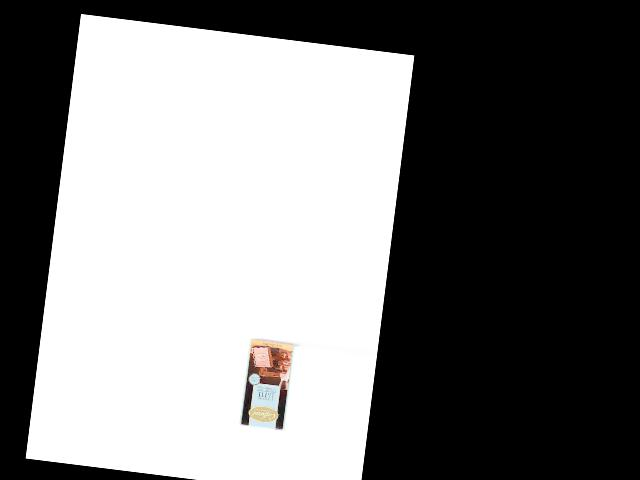chocolate: (238, 337, 296, 431)
